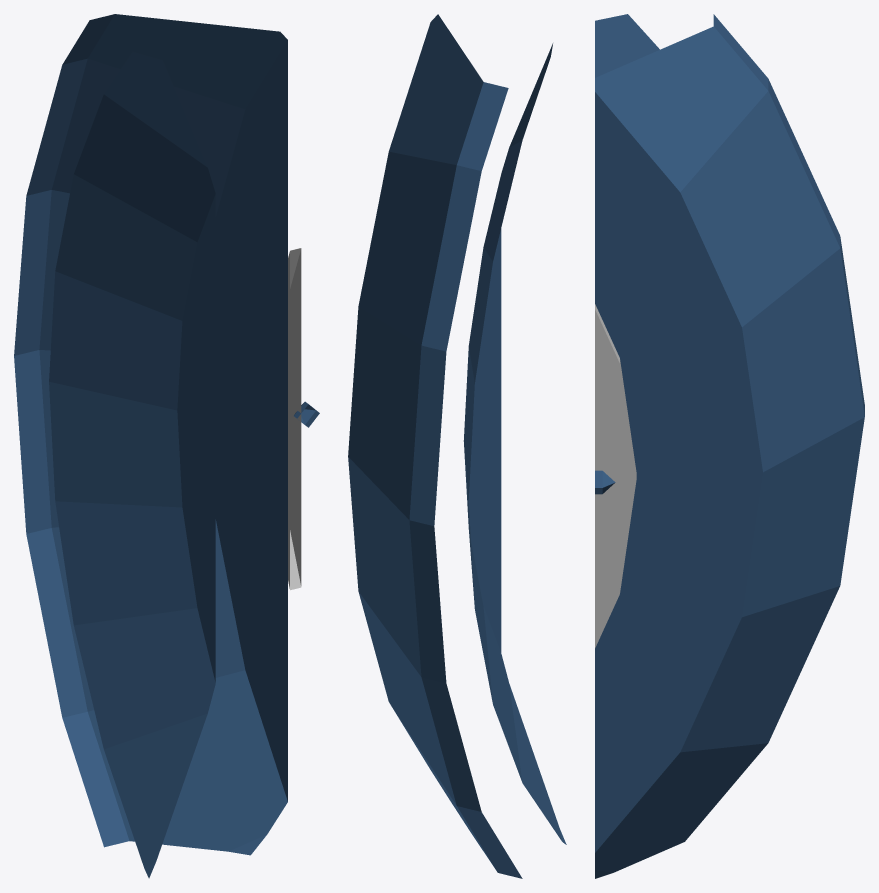
File: cell_27.obj
3 renders of one model, left to right at view 1: azimuth 30°, elevation 25°; view 2: azimuth 150°, elevation 25°; view 3: azimuth 270°, elevation 25°, orthographic.
Bounding box in the file's own units: 0.2191 × 1 × 0.2998.
